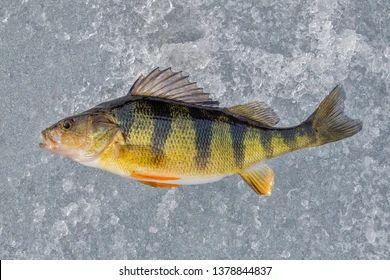Perch: (40, 66, 366, 201)
